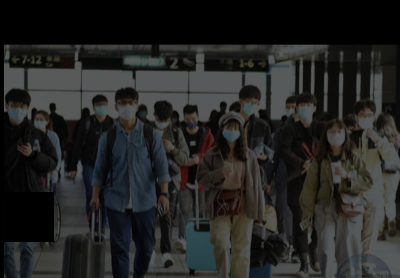with_mask: (5, 100, 27, 122), (116, 96, 136, 120), (220, 122, 241, 142), (357, 108, 374, 130), (326, 126, 345, 145), (241, 96, 259, 114), (296, 100, 313, 119), (93, 99, 107, 116), (154, 114, 169, 129), (183, 114, 198, 128), (32, 114, 45, 129), (283, 103, 296, 118), (136, 104, 147, 118), (169, 112, 177, 122)
